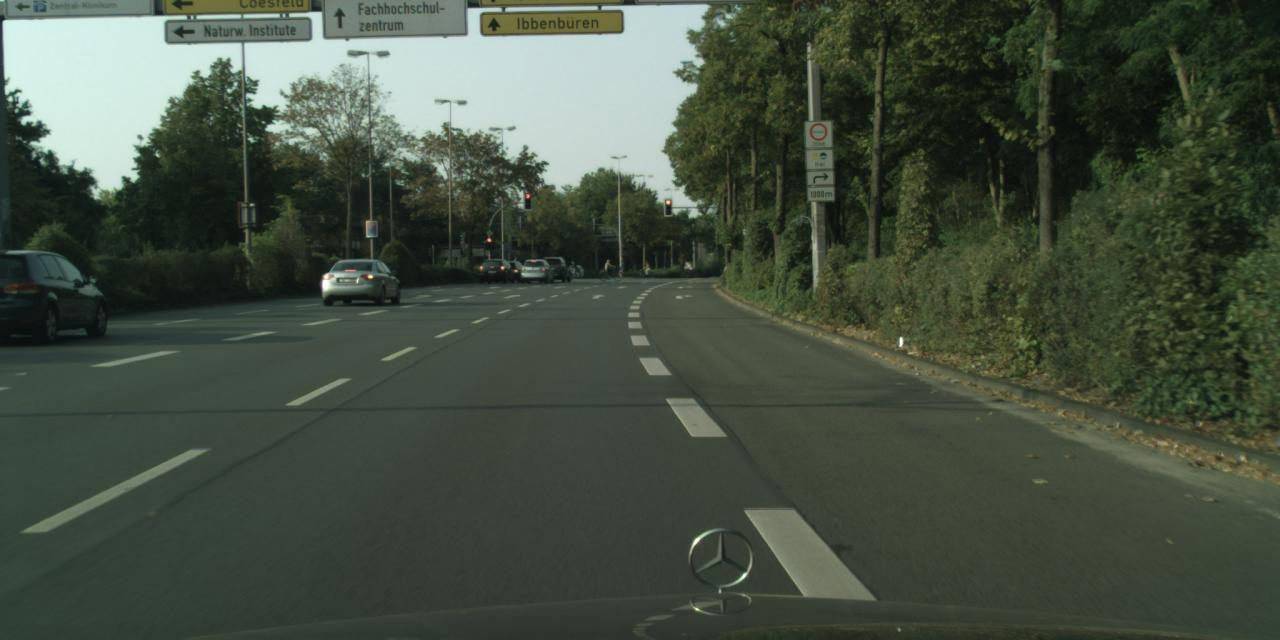ped: (604, 258, 612, 278), (511, 256, 518, 275), (643, 262, 648, 274)
